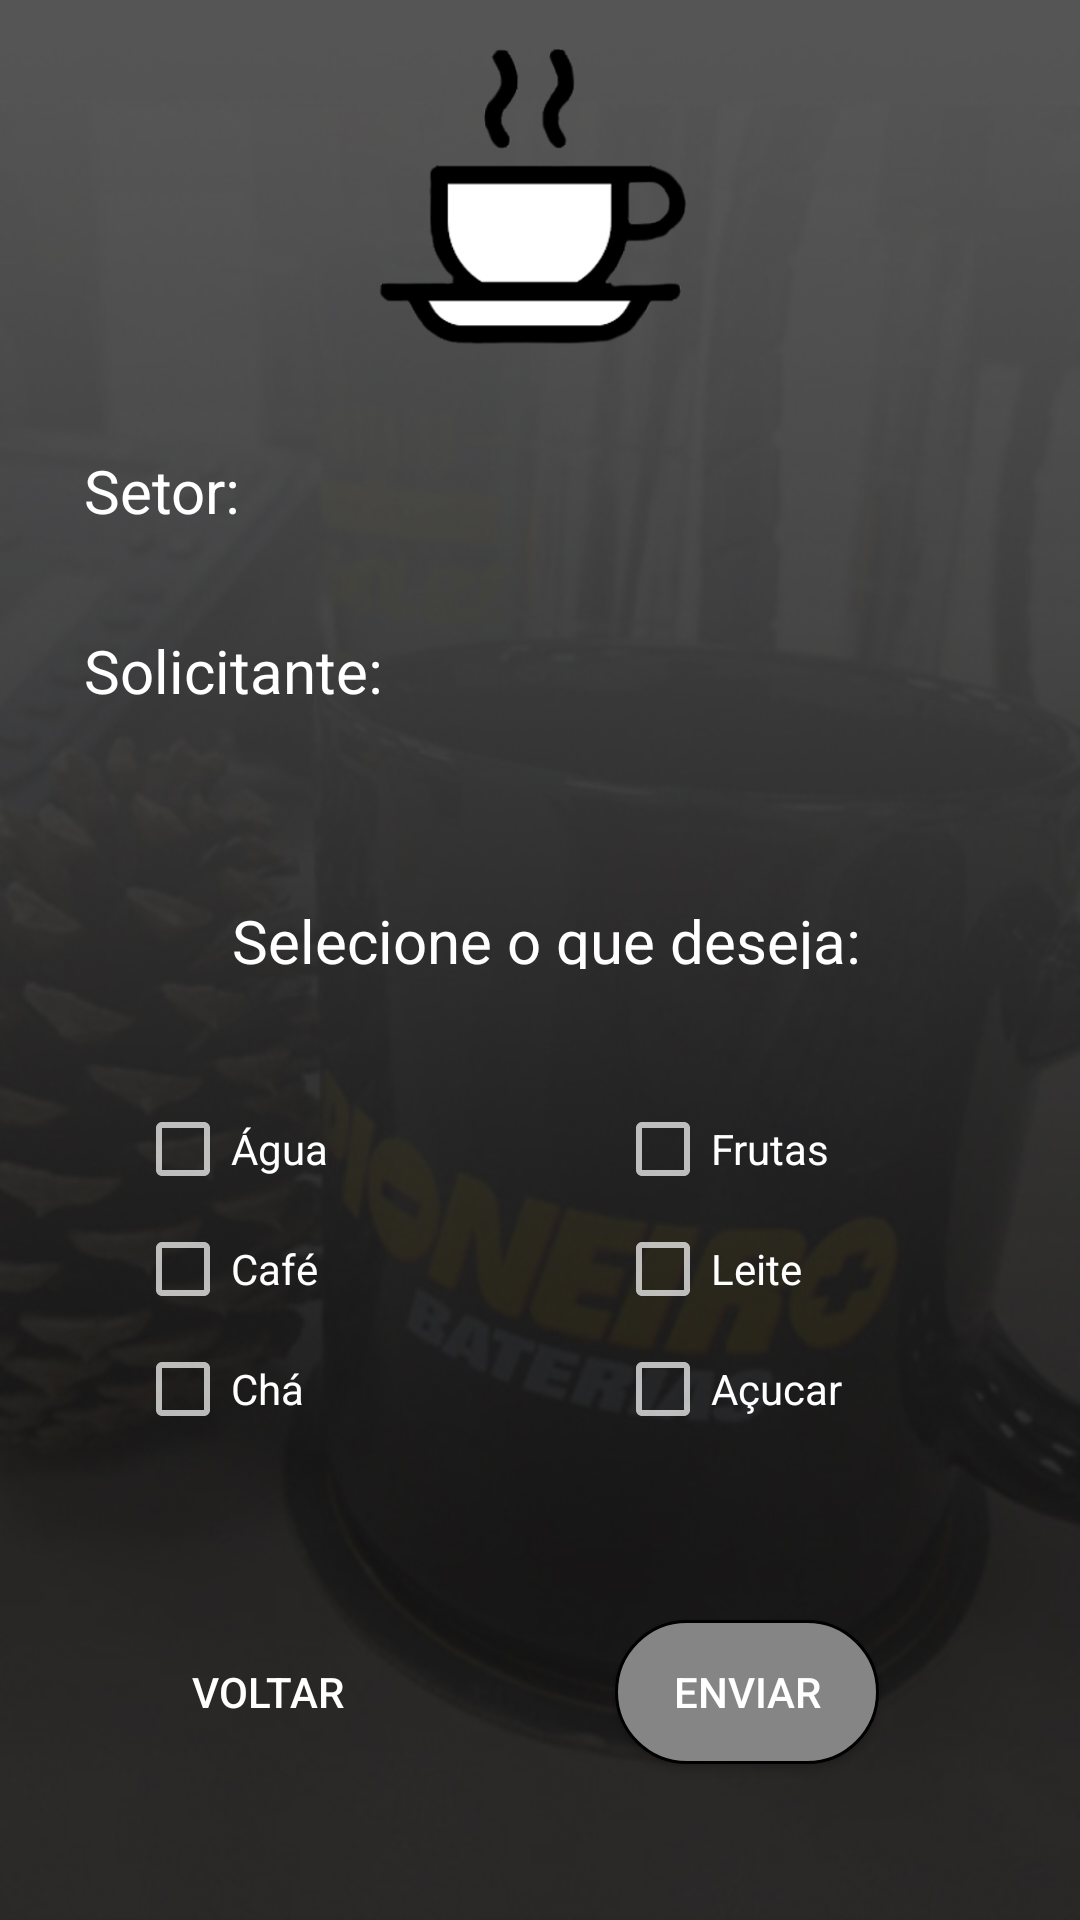

Named icons in this screenshot (1080 x 1920) and their centers, (x=x, y=y):
xicara: (x=533, y=196)
